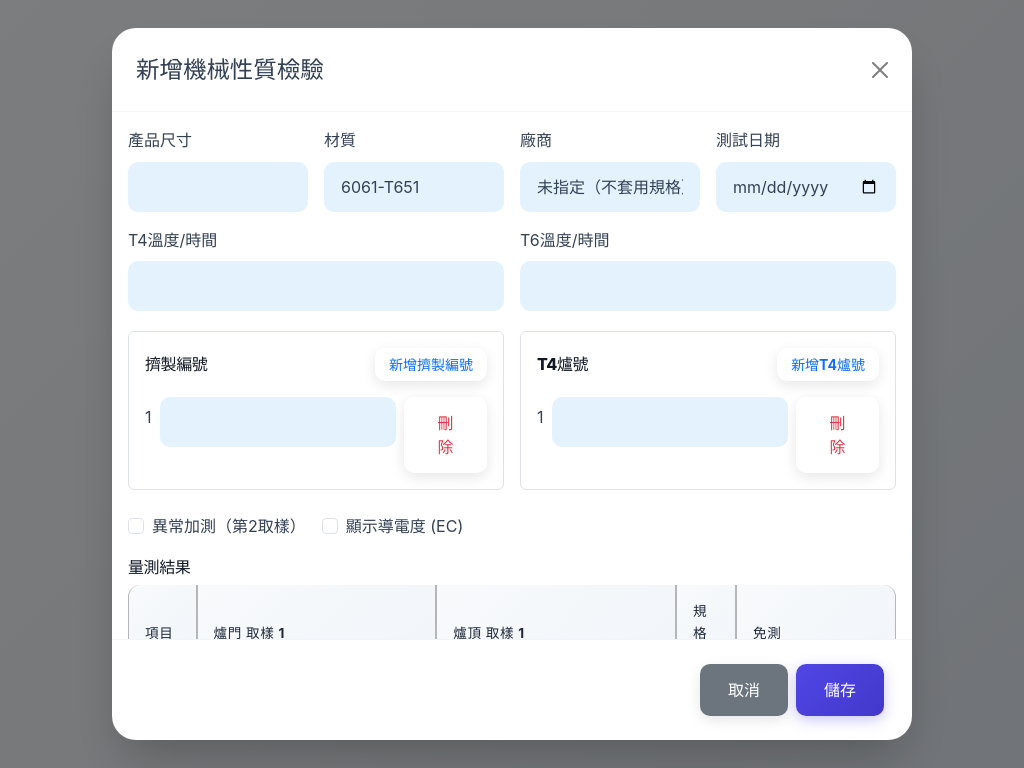
Scenario: MechanicalTestForm › 開關會展開 EC 與第 2 取樣欄位
Step 1. Click the checkbox labelled "異常加測（第2取樣）" → coordinates (136, 526), box x1=128 y1=518 x2=144 y2=534
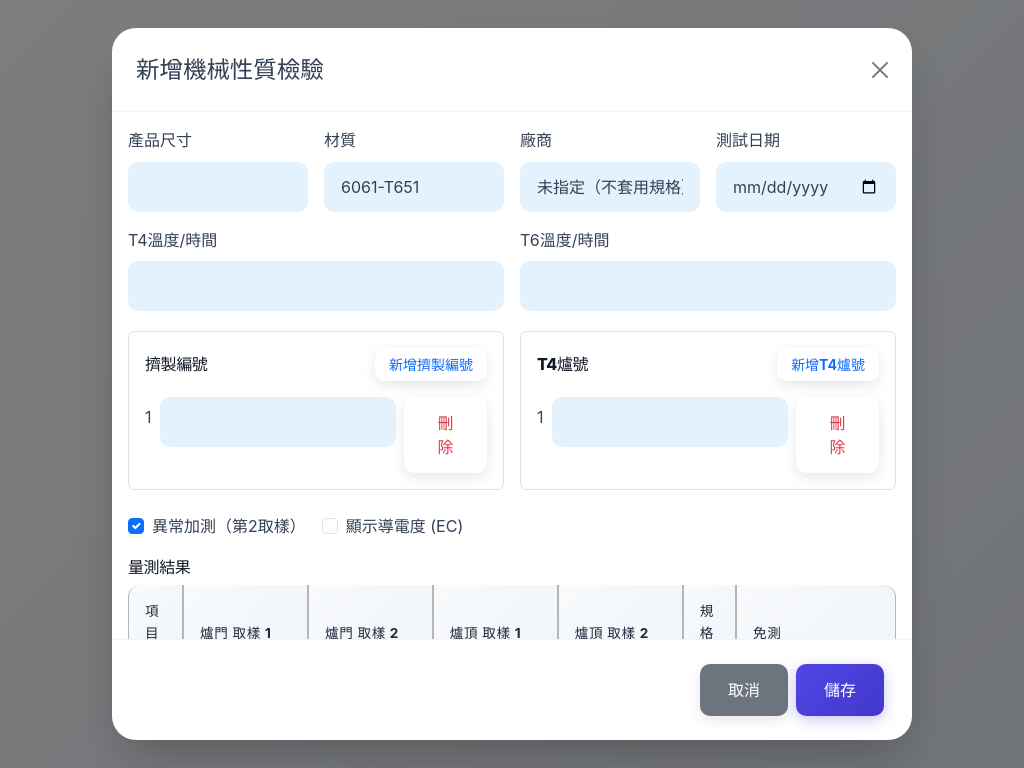
Step 2. Click the checkbox labelled "顯示導電度 (EC)" → coordinates (330, 526), box x1=322 y1=518 x2=338 y2=534
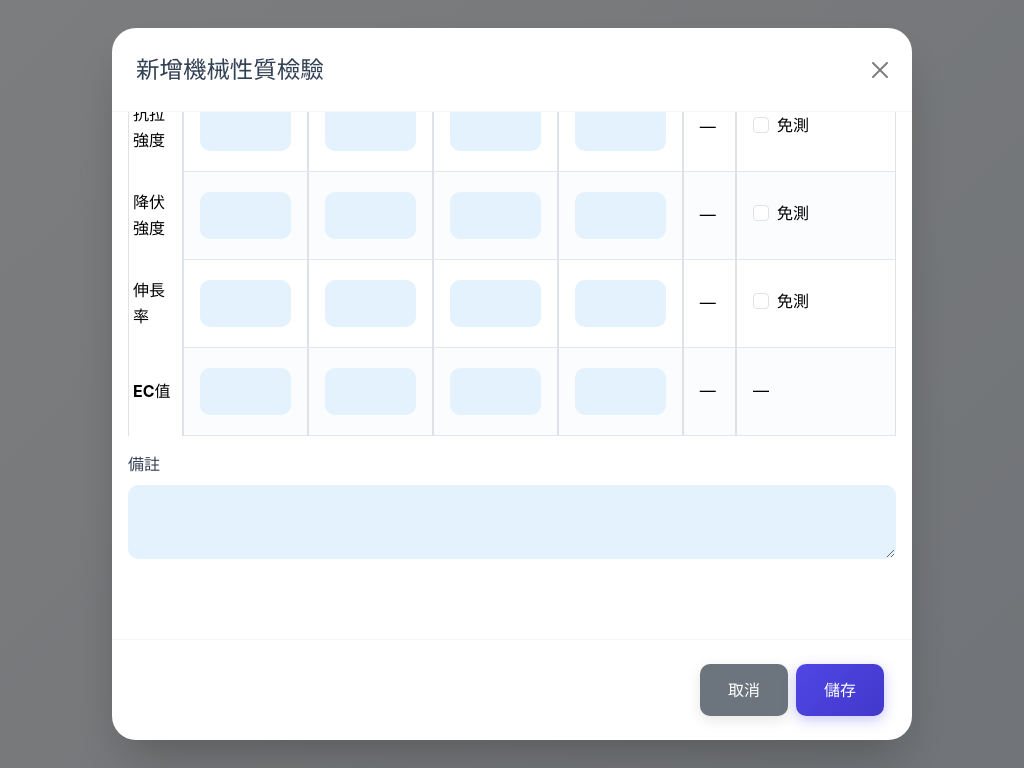
Now the column heading "EC值" is shown, box x1=128 y1=348 x2=183 y2=436
